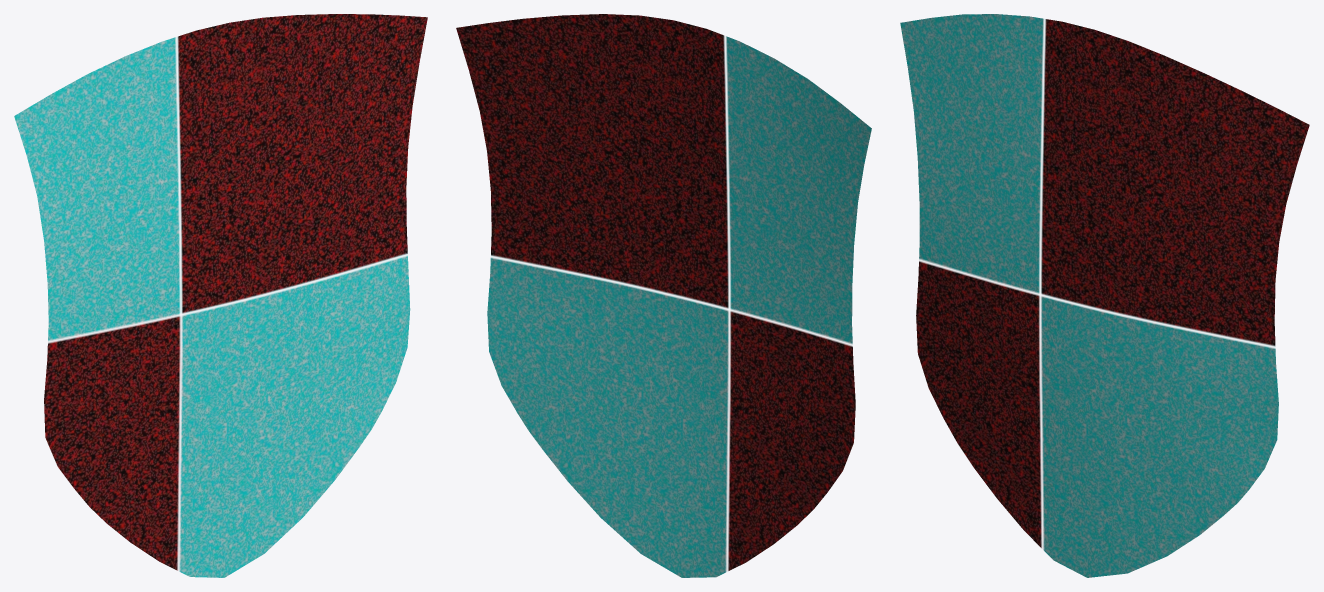
The picture shows the model from 3 angles, left to right: view 1: azimuth 30°, elevation 25°; view 2: azimuth 150°, elevation 25°; view 3: azimuth 330°, elevation 25°; orthographic projection.
Parts seen in each view (by area): view 1: SM_TempestShield_01_LOD0; view 2: SM_TempestShield_01_LOD0; view 3: SM_TempestShield_01_LOD0.
Part boxes in pixels (x1,y1,x2,y2): SM_TempestShield_01_LOD0: (14, 14, 427, 577); SM_TempestShield_01_LOD0: (456, 14, 871, 577); SM_TempestShield_01_LOD0: (900, 14, 1309, 577).
Size of the model in its own units: 0.7657 by 0.9785 by 0.0434.
1 material, 1 textured.
